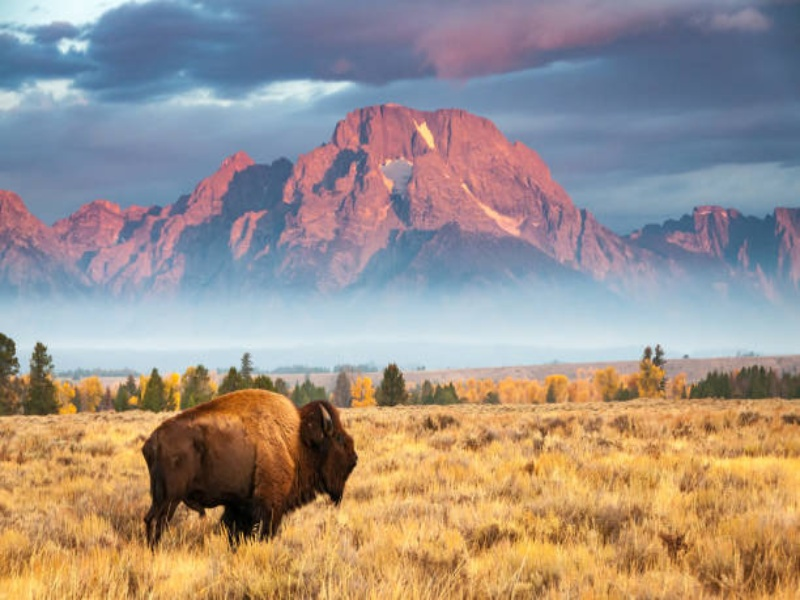buffalo: (139, 386, 363, 551)
